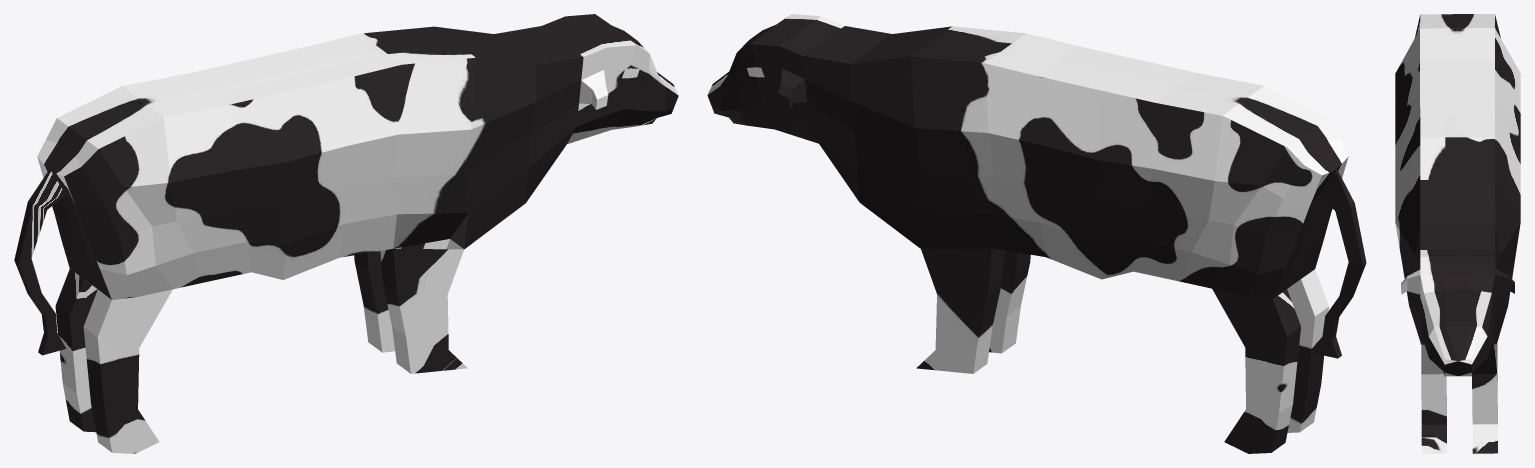
Rendered from VacaTexture.fbx.
The picture shows the model from 3 angles, left to right: view 1: azimuth 30°, elevation 25°; view 2: azimuth 150°, elevation 25°; view 3: azimuth 270°, elevation 25°; orthographic projection. The views are drawn at different scales.
Visible parts, largest first — view 1: Cube; view 2: Cube; view 3: Cube.
Part boxes in pixels (bbox=[...]): Cube: bbox=[14, 14, 678, 453]; Cube: bbox=[707, 14, 1366, 453]; Cube: bbox=[1395, 14, 1520, 453].
Size of the model in its own units: 538 by 260 by 99.73.
Materials: 1 (1 with a texture image).
